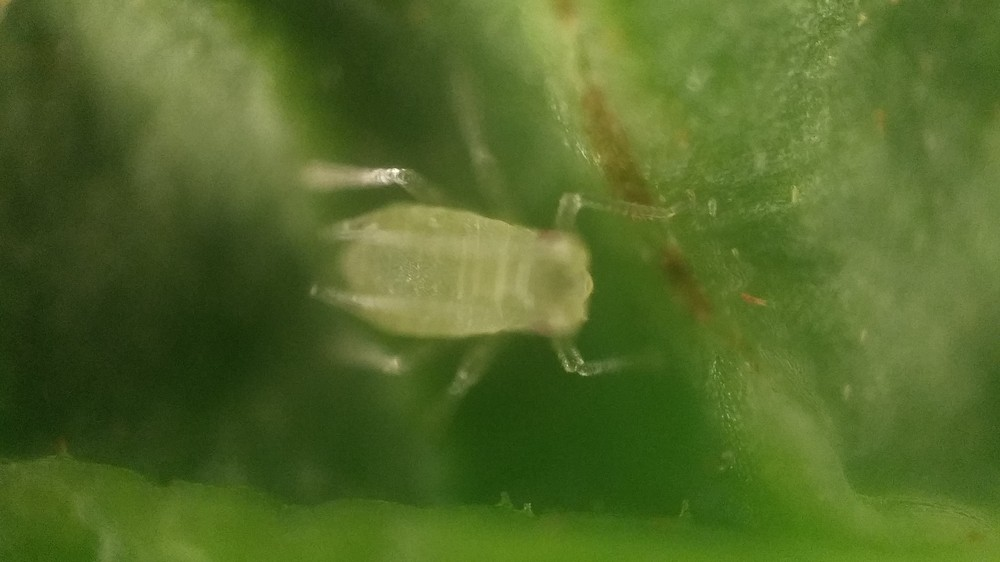Pulgon: (279, 97, 730, 446)
